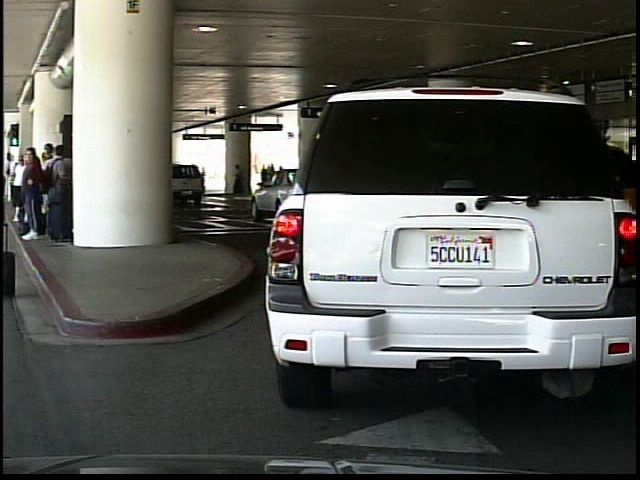person: (233, 162, 245, 196)
